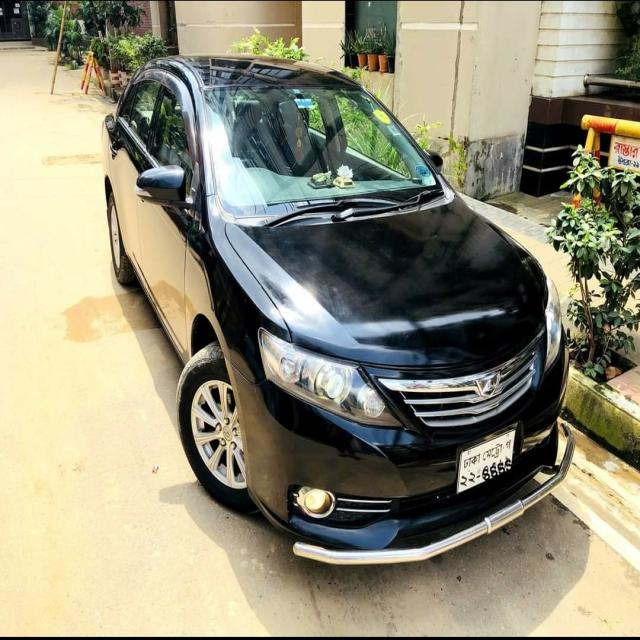black: (102, 53, 601, 578)
